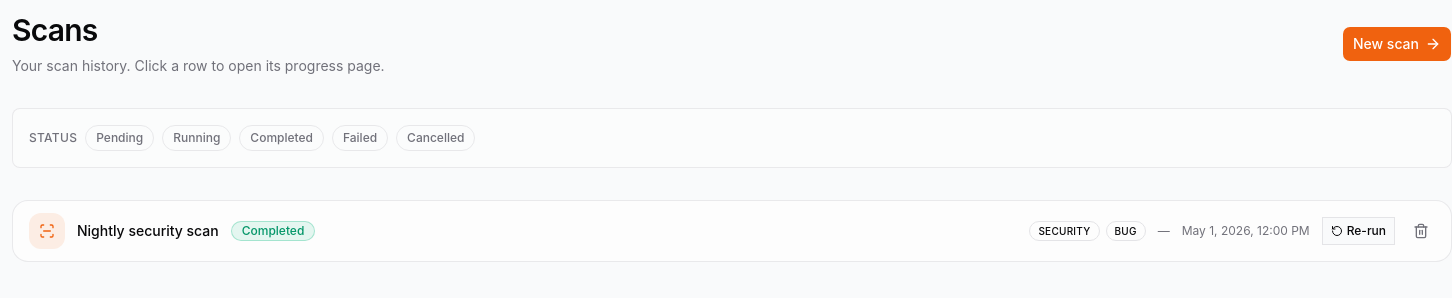
Test: ScansPage › surfaces an inline error when the delete mutation rejects
Click the button with test id "scan-row-s-1-delete-trigger" at (1421, 231), box [1407,217,1435,245]
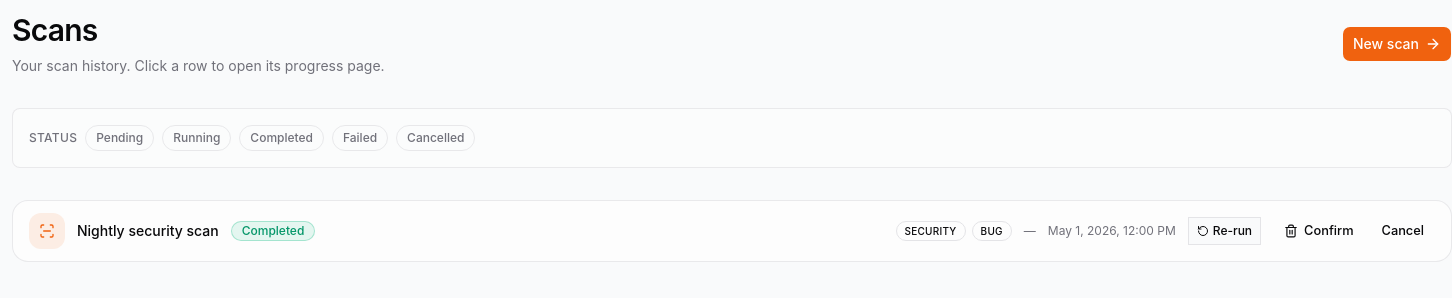
Click the button with test id "scan-row-s-1-delete-confirm" at (1319, 231), box [1273,217,1364,245]
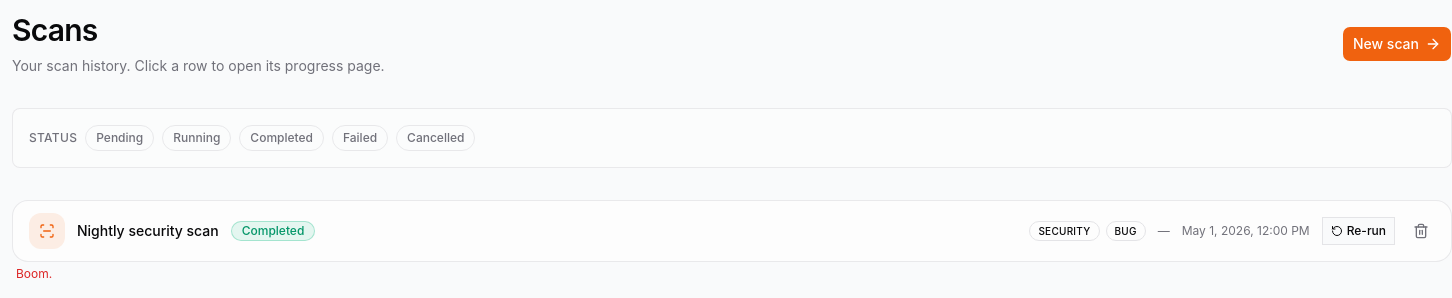
Now the message with test id "scan-row-s-1-rerun-error" shows "Boom", box [16,266,52,281]
